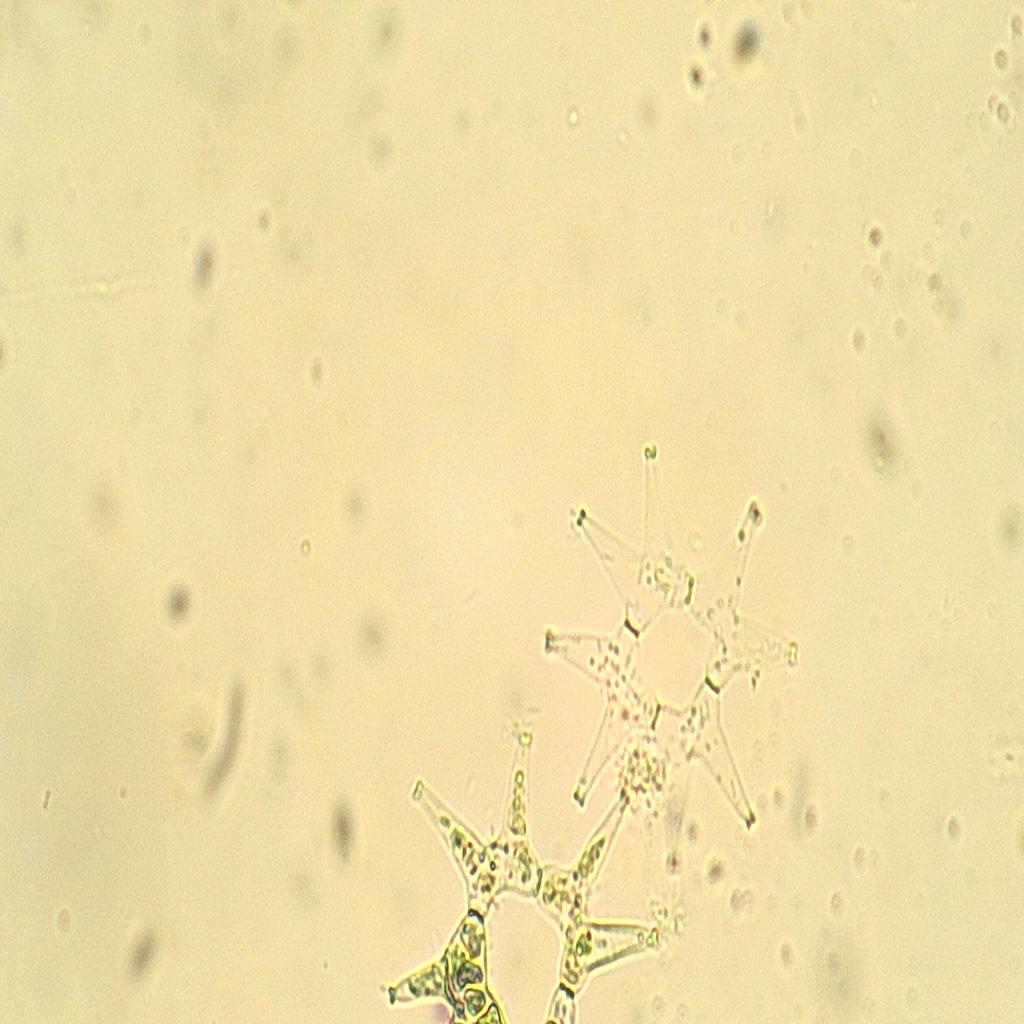Pediastrum_1F0: (520, 408, 820, 893)
